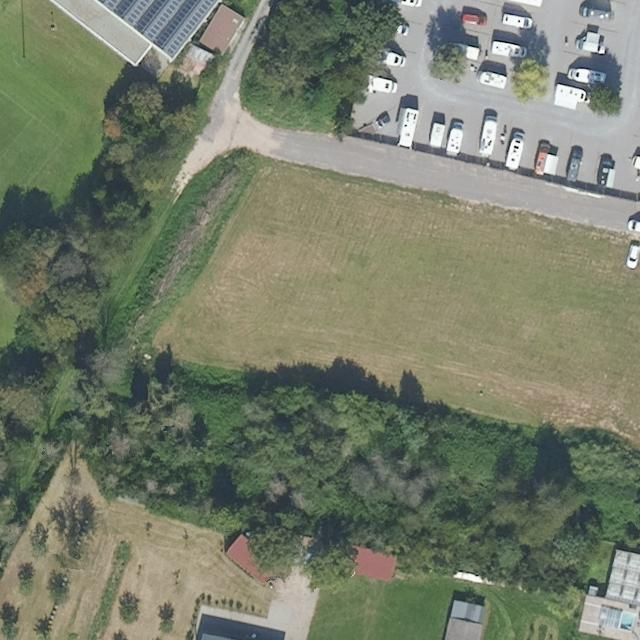PV: (97, 2, 222, 65)
